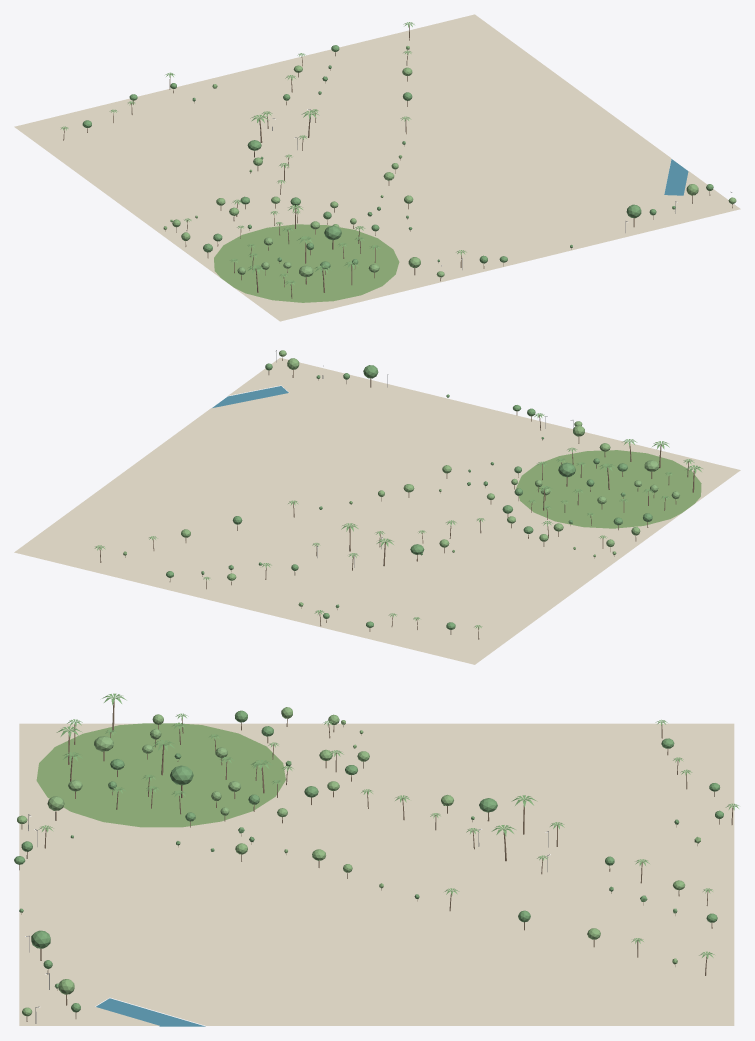
The model's file is nature_0_6.glb.
3 renders of one model, top to bottom at view 1: azimuth 30°, elevation 25°; view 2: azimuth 150°, elevation 25°; view 3: azimuth 270°, elevation 25°, orthographic. The views are drawn at different scales.
Parts seen in each view (by area): view 1: ground, grass, foliage_b, foliage_a, palm_leaf, trunk, water; view 2: ground, grass, foliage_a, foliage_b, palm_leaf, trunk, water; view 3: ground, grass, foliage_b, foliage_a, palm_leaf, trunk, water.
Part boxes in pixels (x1,y1,x2,y2): ground: [14, 14, 740, 321]; grass: [214, 224, 399, 302]; foliage_b: [163, 46, 736, 277]; foliage_a: [82, 45, 713, 269]; palm_leaf: [60, 22, 466, 285]; trunk: [63, 25, 732, 298]; water: [664, 159, 688, 195]; ground: [14, 357, 740, 664]; grass: [516, 450, 701, 528]; foliage_a: [166, 363, 652, 629]; foliage_b: [123, 350, 679, 606]; palm_leaf: [94, 413, 702, 628]; trunk: [99, 357, 694, 639]; water: [212, 386, 288, 407]; ground: [19, 723, 734, 1025]; grass: [36, 723, 285, 827]; foliage_b: [17, 707, 700, 1016]; foliage_a: [14, 710, 723, 1012]; palm_leaf: [38, 693, 738, 958]; trunk: [19, 701, 733, 1021]; water: [96, 998, 205, 1026].
Bounding box in the file's own units: 250 × 13.8 × 254.
